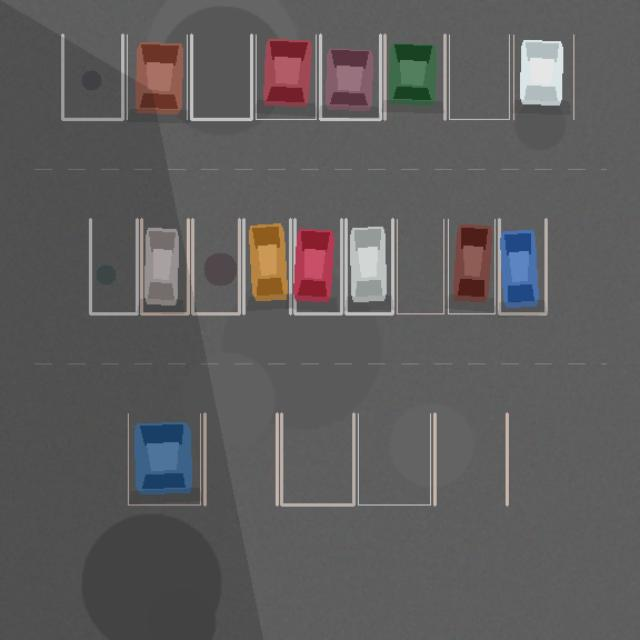space-empty: (204, 413, 277, 504), (434, 413, 507, 504), (281, 413, 353, 504), (358, 413, 430, 504), (62, 34, 122, 119), (191, 34, 251, 119), (449, 34, 509, 119), (90, 219, 137, 313), (192, 219, 239, 313), (397, 219, 443, 313)
space-occupied: (128, 413, 200, 504), (127, 34, 187, 119), (256, 34, 316, 119), (320, 34, 380, 119), (384, 34, 444, 119), (513, 34, 573, 119), (141, 219, 188, 313), (243, 219, 290, 313), (294, 219, 341, 313), (499, 219, 546, 313), (346, 219, 392, 313), (448, 219, 494, 313)
